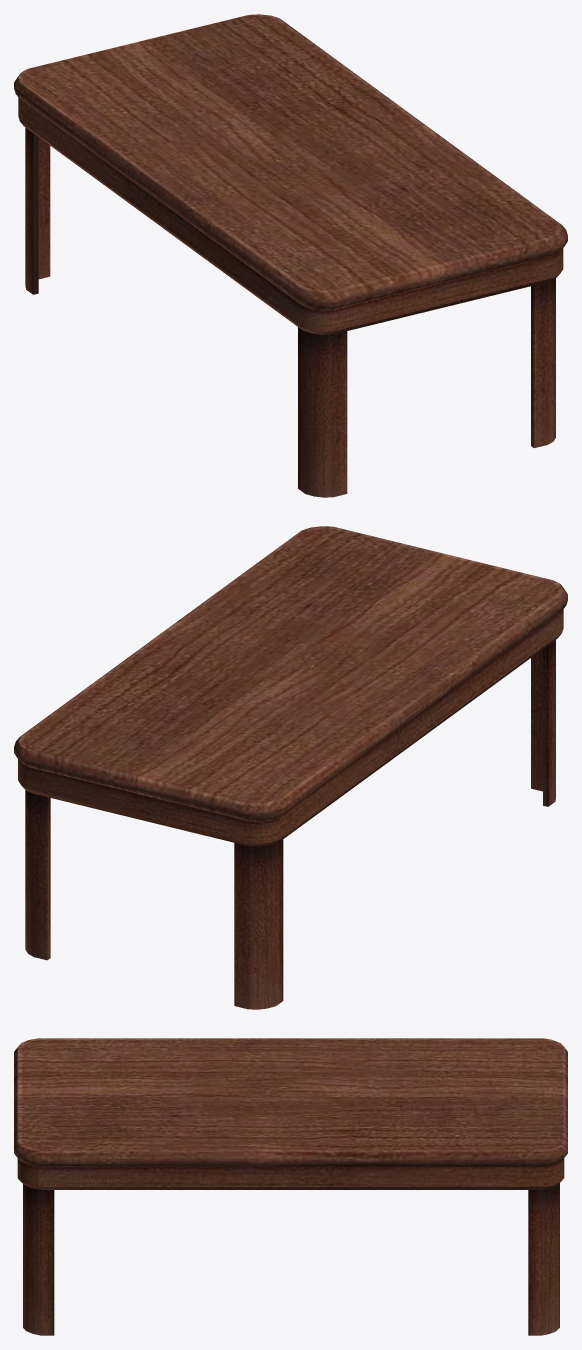
File: table_coffee.glb
3 views of the same model, one above another, from view 1: azimuth 30°, elevation 25°; view 2: azimuth 150°, elevation 25°; view 3: azimuth 270°, elevation 25° (orthographic). The views are drawn at different scales.
Parts seen in each view (by area): view 1: 0_Table_coffee; view 2: 0_Table_coffee; view 3: 0_Table_coffee.
Boxes of the visible parts, x1,y1,x2,y2 form: 0_Table_coffee: [14, 14, 567, 497]; 0_Table_coffee: [14, 526, 567, 1009]; 0_Table_coffee: [14, 1038, 567, 1335].
Bounding box in the file's own units: 0.8255 × 0.6118 × 1.65.
Materials: 1 (1 with a texture image).
